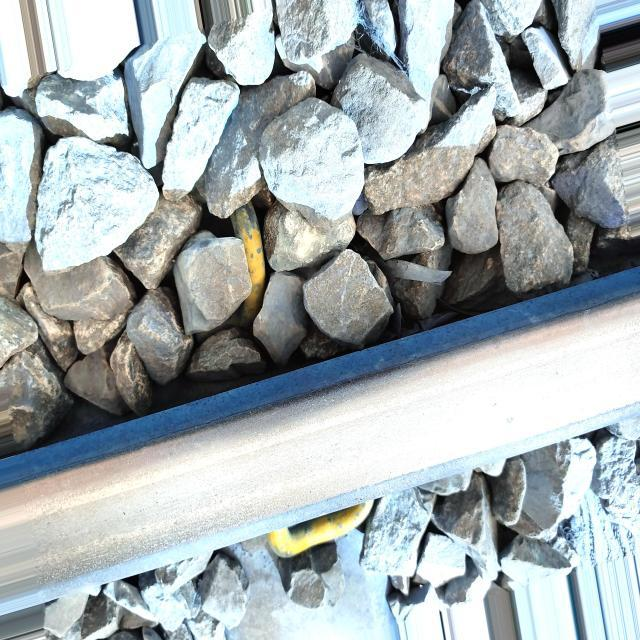Good Fasteners: (267, 500, 374, 557), (229, 202, 266, 326)
